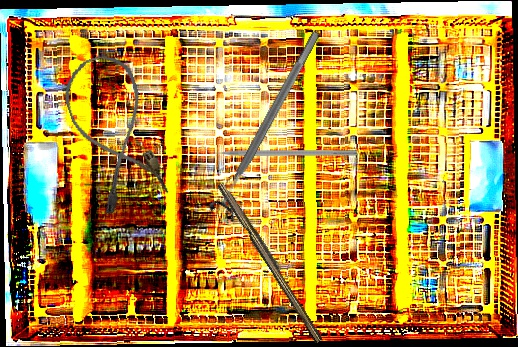Cannula: (55, 48, 172, 216)
Chopper: (202, 142, 357, 156)
Fixation Ring: (205, 24, 331, 224)
Scalpel Handle: (214, 180, 328, 344)
